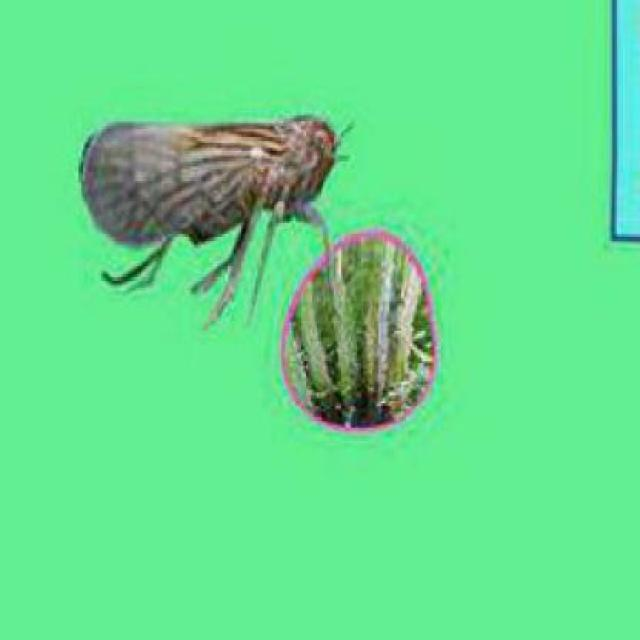brown-planthopper: (70, 101, 342, 248)
